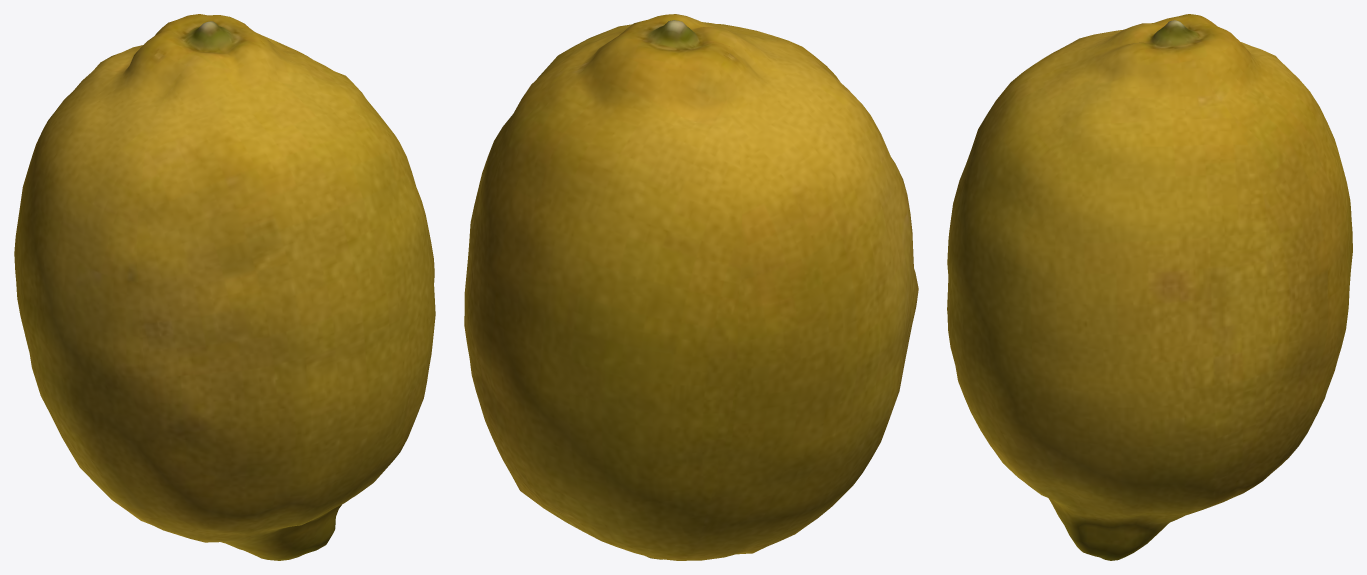
The model's file is ph_lemon.glb.
The picture shows the model from 3 angles, left to right: view 1: azimuth 30°, elevation 25°; view 2: azimuth 150°, elevation 25°; view 3: azimuth 270°, elevation 25°; orthographic projection. The views are drawn at different scales.
Visible parts, largest first — view 1: lemon; view 2: lemon; view 3: lemon.
Boxes of the visible parts, bbox=[...] form: lemon: bbox=[14, 14, 435, 560]; lemon: bbox=[464, 14, 918, 560]; lemon: bbox=[947, 14, 1352, 560].
Size of the model in its own units: 0.0687 by 0.0954 by 0.0683.
Materials: 1 (1 with a texture image).
